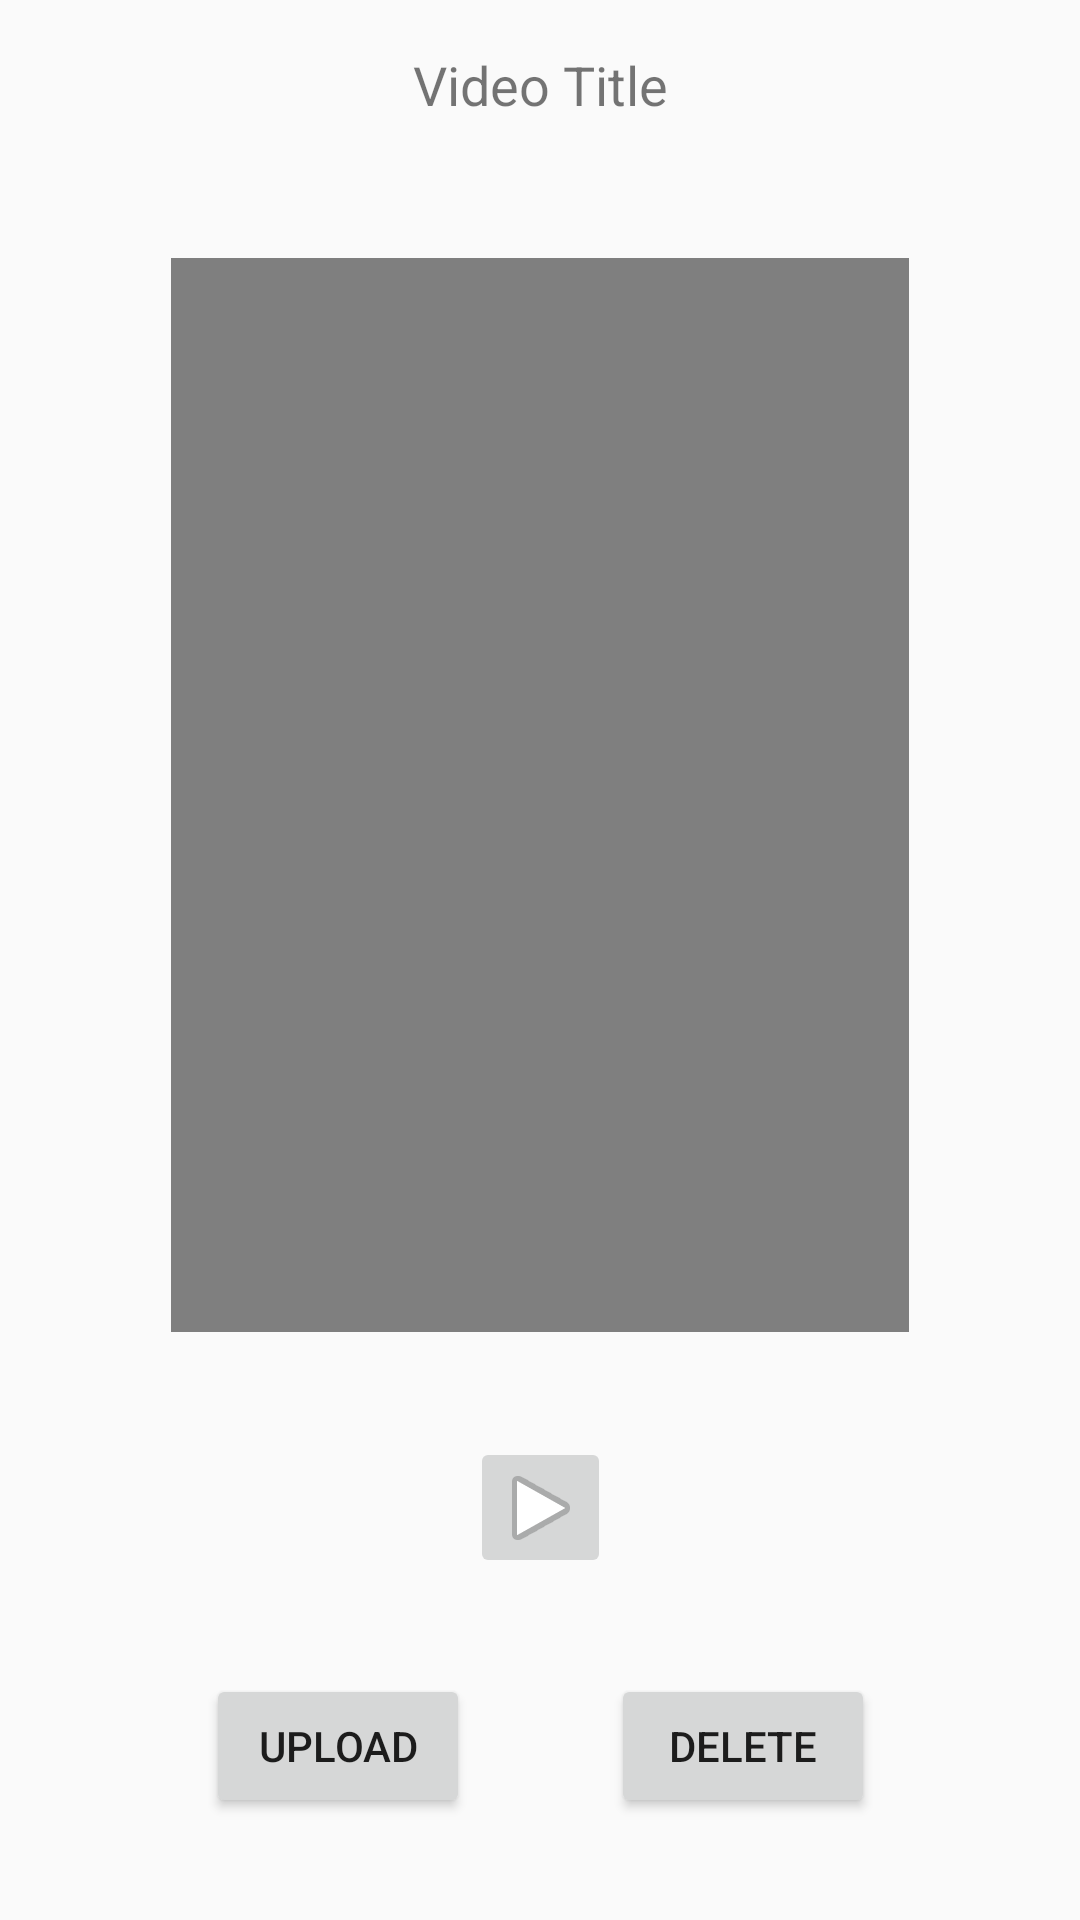

Icons on this 1080w x 1920h Android screen, each with the point to tap as point (x, y):
play: point (540, 1507)
